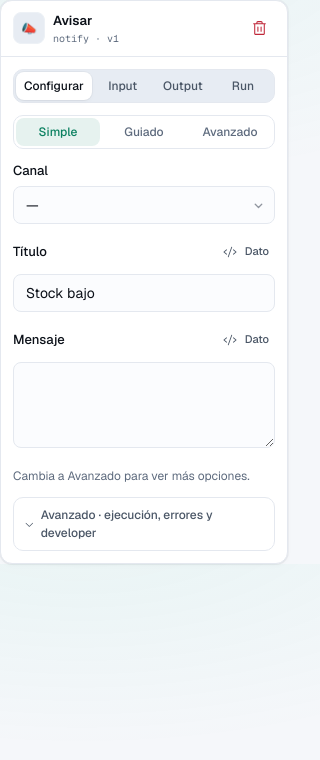
Test: NodeConfigPanel tabs › Output muestra la salida real del último run y no JSON crudo
Click the tab with test id "wf-tab-output" at (183, 86), box top-left (154, 72), bottom-right (212, 100)
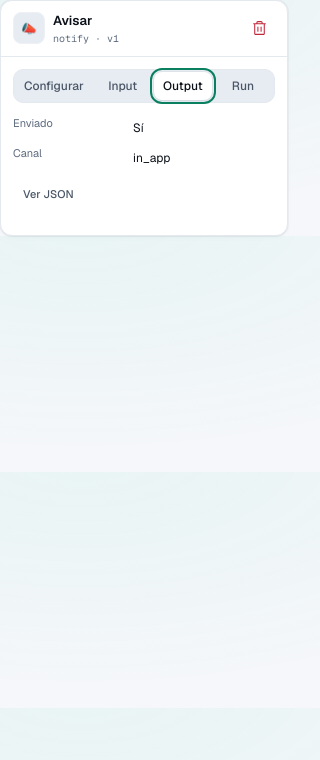
Now the element with test id "wf-output-view" shows "Enviado", box top-left (13, 116), bottom-right (53, 130)
Now the element with test id "wf-output-view" shows "Sí", box top-left (133, 120), bottom-right (144, 136)
